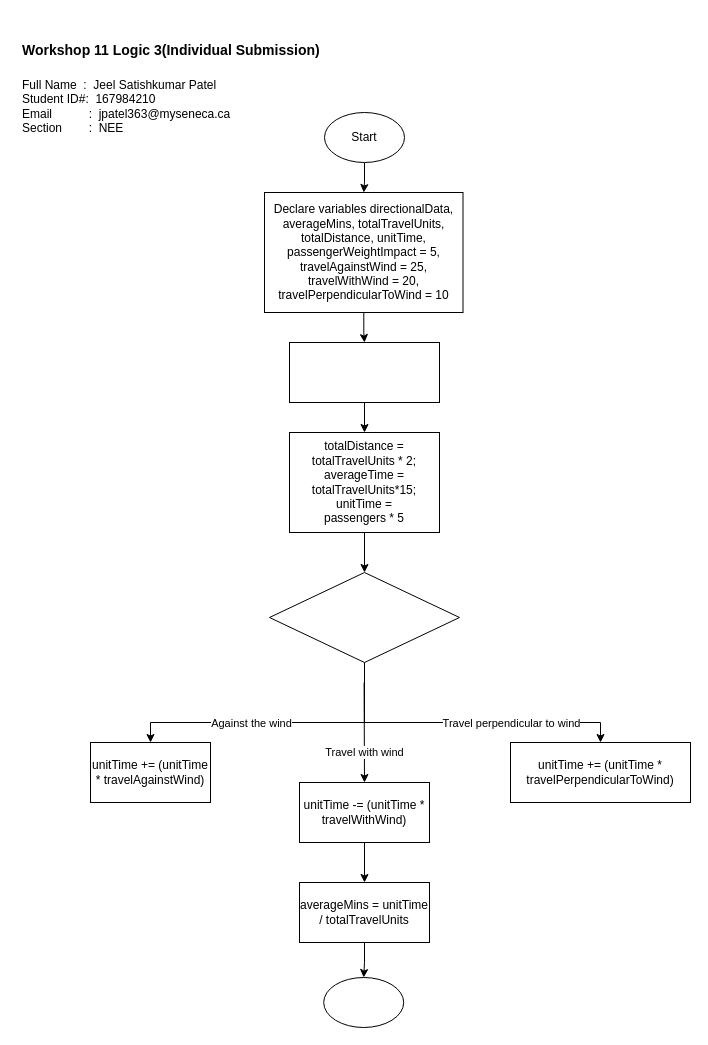
Some shapes in this 708 by 1045 pixel diagram are drawn without their labels. The shapes that lost their labels are listed below. From the top down, each one's centre as x and y in pixels, then its label:
At pixel 364 372: "Get the directional data from the minutes and directions sub-processes".
At pixel 364 617: "What's the wind direction?".
At pixel 363 1002: "End".
